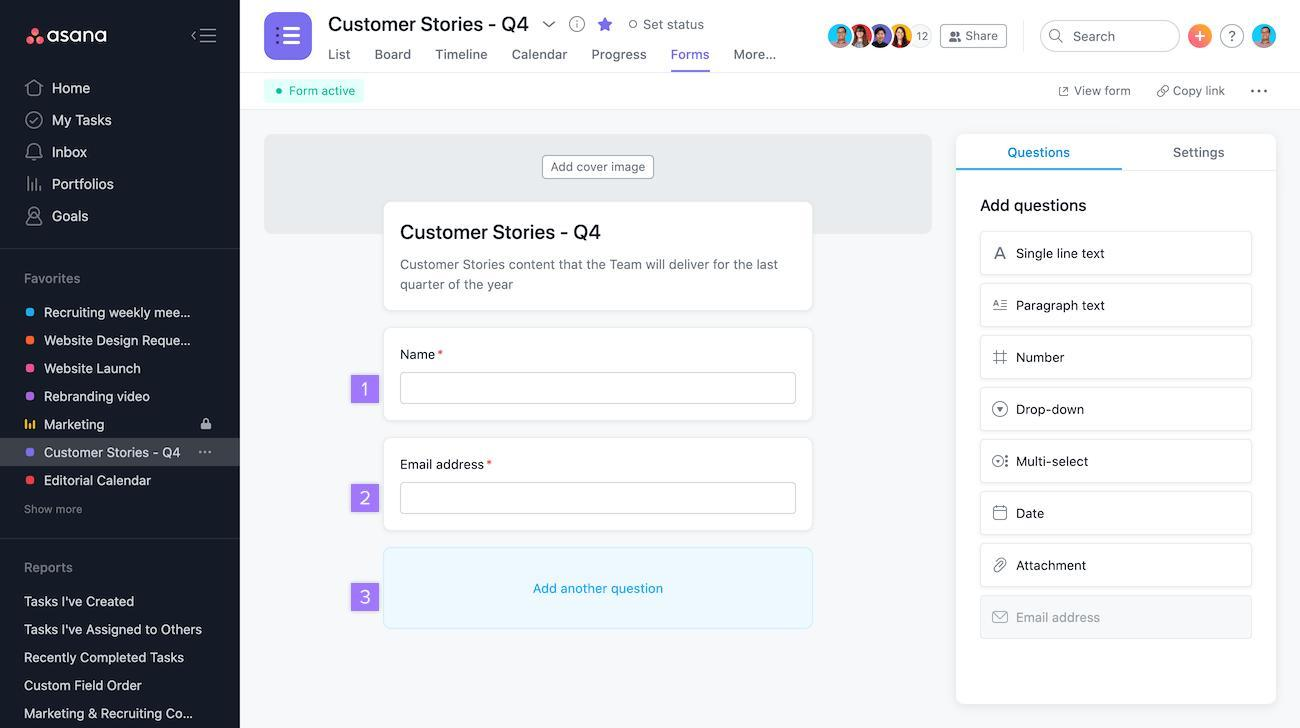button: (980, 542, 1253, 588), (980, 230, 1252, 276), (982, 596, 1254, 642), (979, 439, 1252, 484), (980, 492, 1252, 537), (982, 283, 1252, 328), (980, 335, 1252, 379), (981, 388, 1252, 432), (543, 155, 655, 181), (939, 25, 1009, 51)
icon: (190, 24, 223, 48), (1187, 22, 1213, 50), (1220, 25, 1248, 49), (567, 14, 590, 37), (1247, 83, 1275, 101), (537, 15, 562, 35), (596, 14, 616, 38), (1053, 83, 1073, 103), (1155, 81, 1173, 102), (196, 416, 216, 434)
input: (400, 483, 798, 516), (401, 373, 798, 406), (1040, 19, 1181, 54)
label: (323, 13, 533, 40), (1002, 144, 1077, 164), (1165, 143, 1228, 162), (1073, 85, 1136, 102), (1173, 84, 1229, 100)
